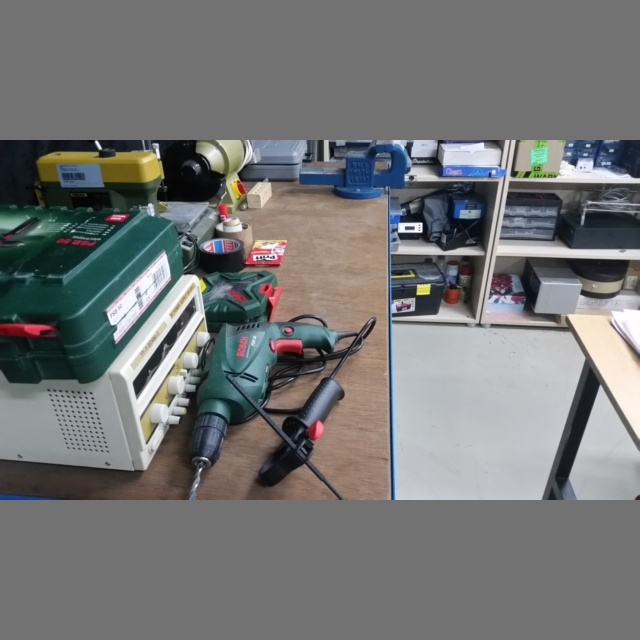drill: (186, 311, 363, 498)
